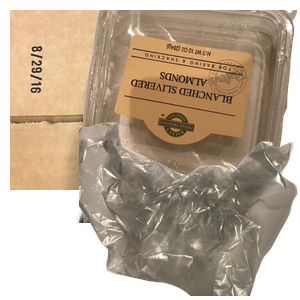cardboard: (10, 10, 250, 190)
glass: (74, 120, 244, 300)
plastic: (83, 10, 300, 190)
trash: (79, 120, 300, 300)
